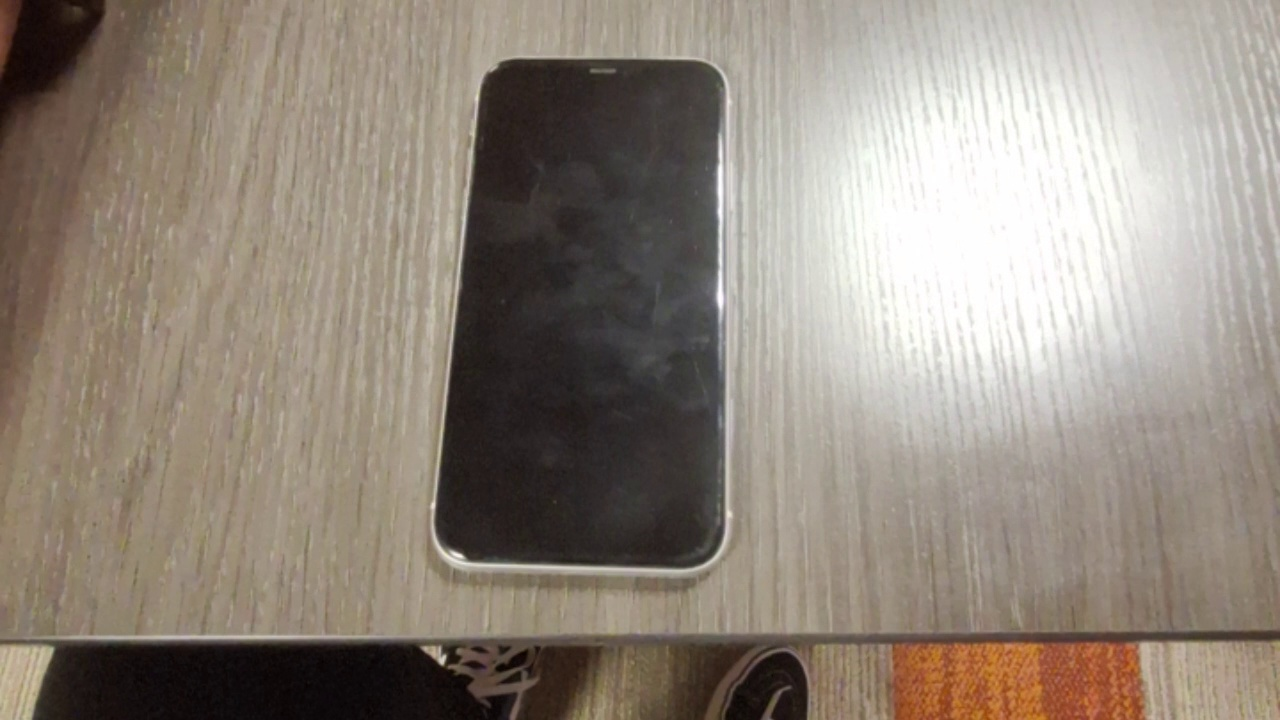celular: (429, 53, 734, 579)
